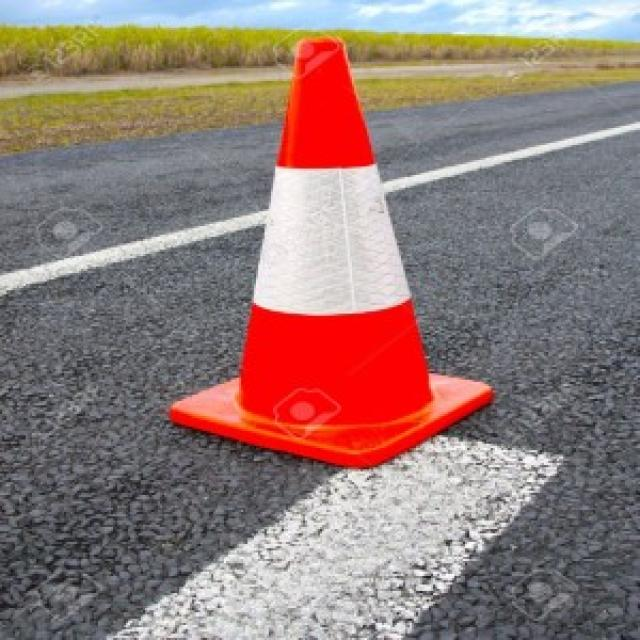Traffic Cone: (164, 34, 489, 465)
